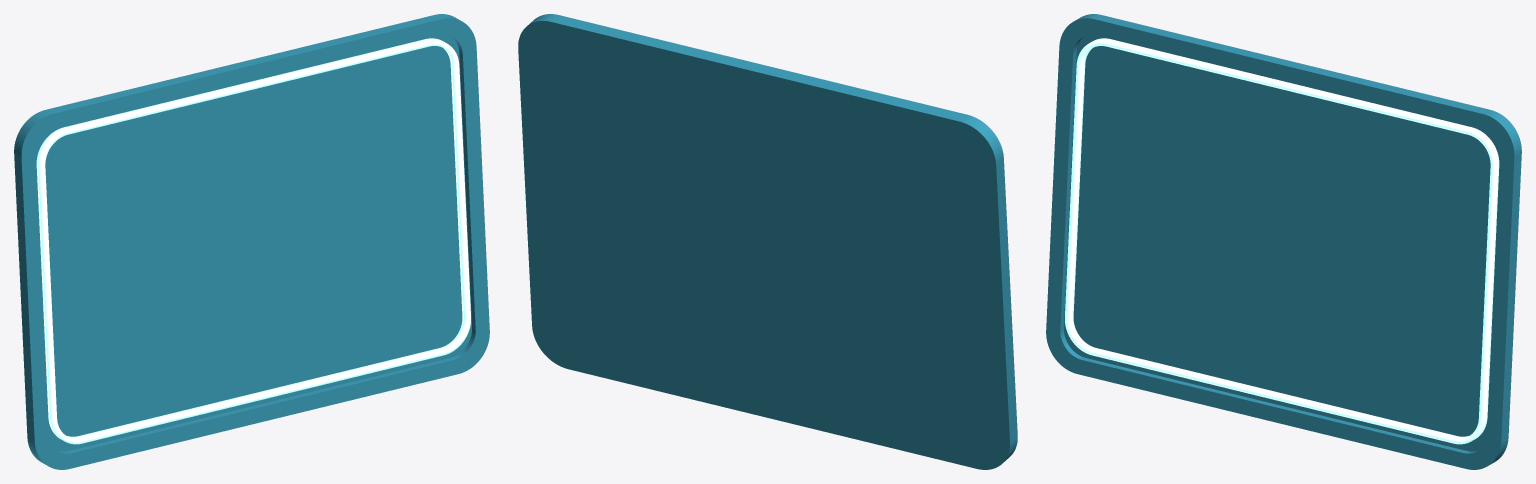
Rendered from icon_card_wide.glb.
3 renders of one model, left to right at view 1: azimuth 30°, elevation 25°; view 2: azimuth 150°, elevation 25°; view 3: azimuth 330°, elevation 25°, orthographic. The views are drawn at different scales.
Visible parts, largest first — view 1: Plane; view 2: Plane; view 3: Plane.
Boxes of the visible parts, left/top/right/bottom form: Plane: left=14, top=14, right=489, bottom=469; Plane: left=518, top=14, right=1017, bottom=469; Plane: left=1046, top=14, right=1521, bottom=469.
Size of the model in its own units: 2.77 by 2 by 0.252.
